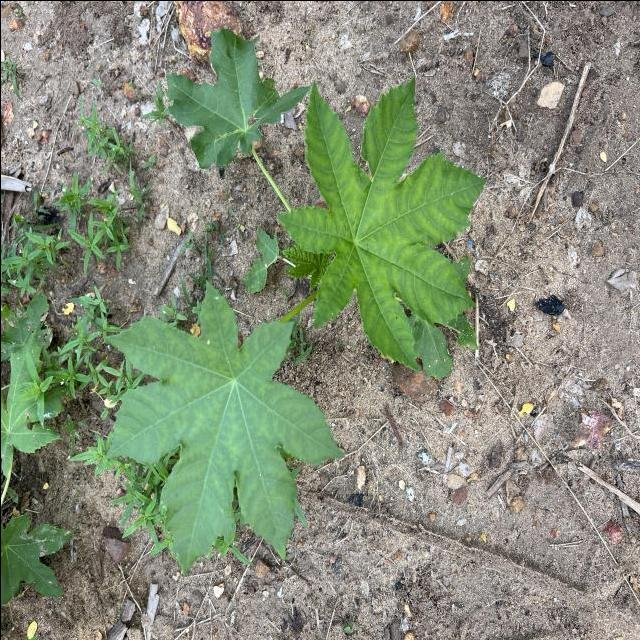Ricinus communis linn: (102, 277, 346, 582), (273, 70, 489, 376)
